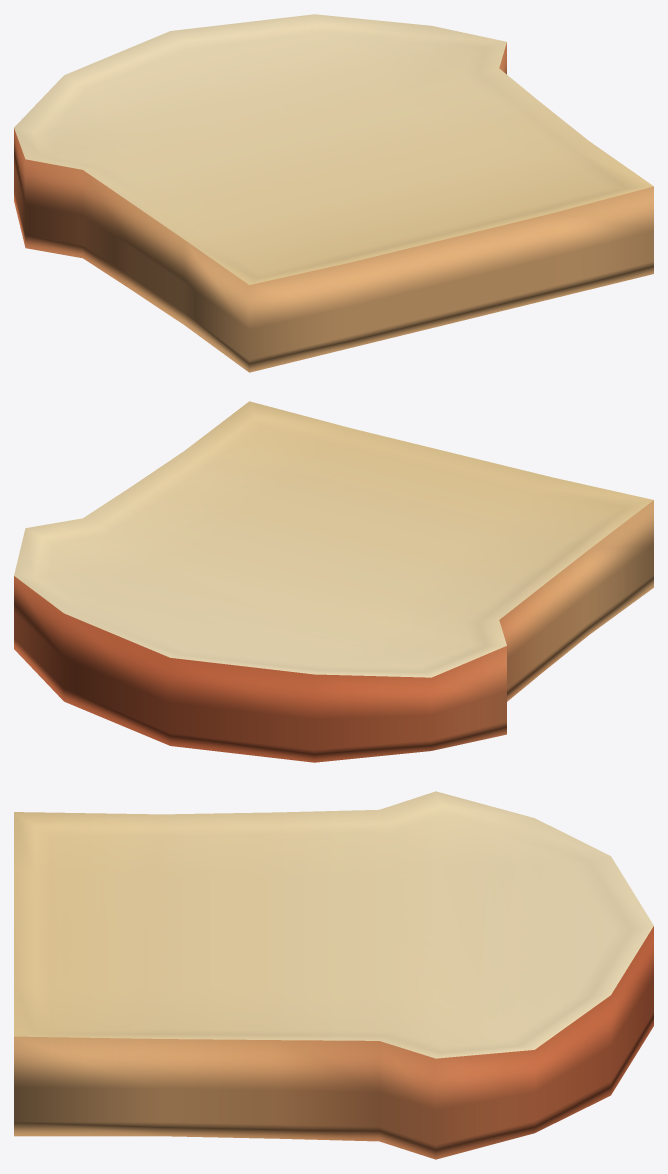
Rendered from toast.fbx.
3 renders of one model, top to bottom at view 1: azimuth 30°, elevation 25°; view 2: azimuth 150°, elevation 25°; view 3: azimuth 270°, elevation 25°, orthographic. The views are drawn at different scales.
Parts seen in each view (by area): view 1: TOAST SLICE; view 2: TOAST SLICE; view 3: TOAST SLICE.
Boxes of the visible parts, x1,y1,x2,y2 form: TOAST SLICE: (14,14,653,372); TOAST SLICE: (14,401,653,762); TOAST SLICE: (14,791,653,1159).
Size of the model in its own units: 61.13 by 10.84 by 61.84.
